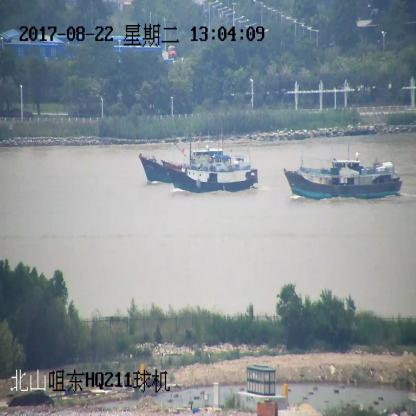Fishing Boat: (284, 153, 402, 202), (166, 149, 258, 193), (140, 146, 233, 184)
